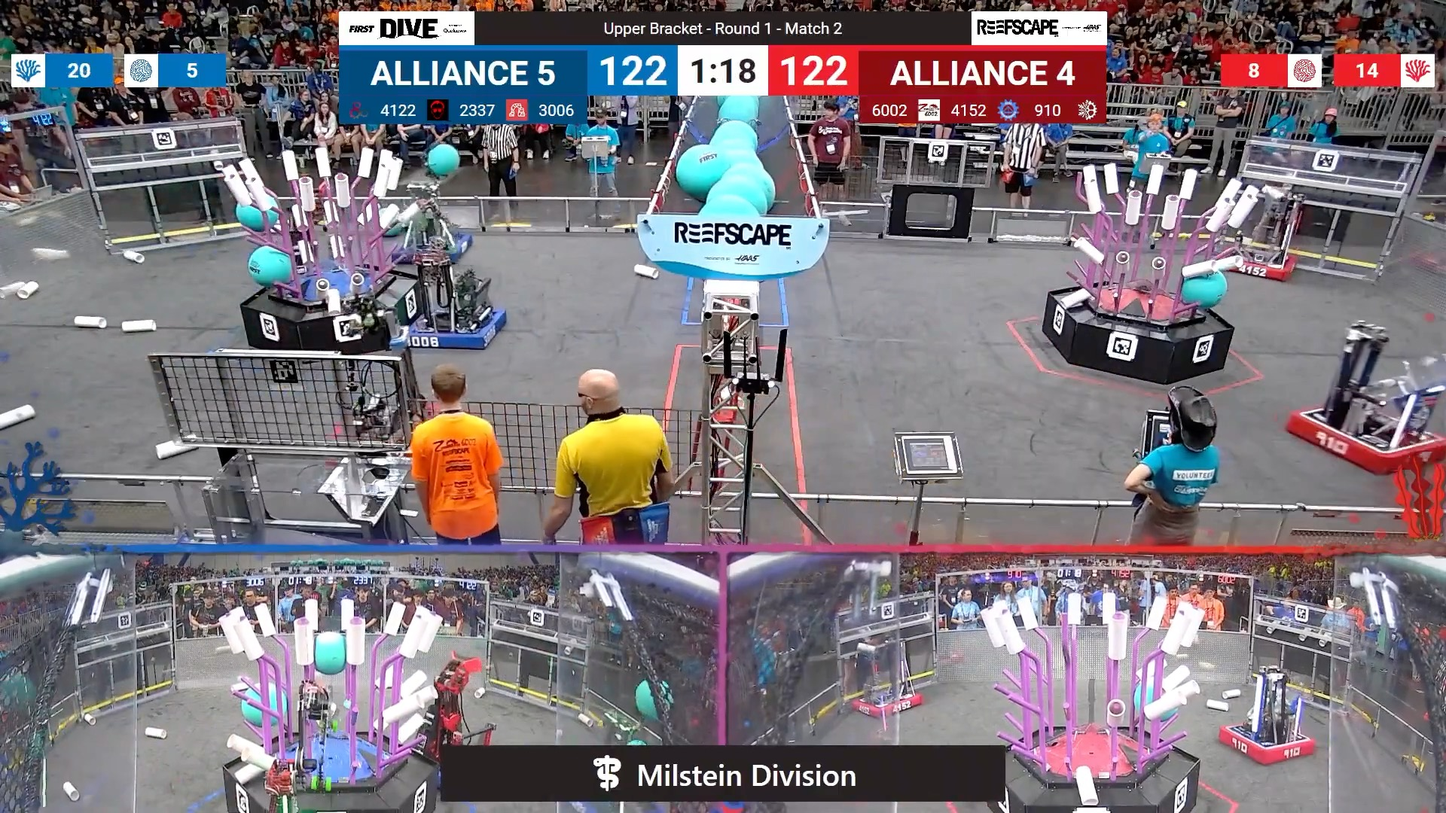bumpers: (1278, 400, 1444, 476), (398, 303, 511, 355), (1210, 719, 1321, 767), (389, 231, 479, 266), (1215, 248, 1304, 283), (846, 687, 929, 720)
